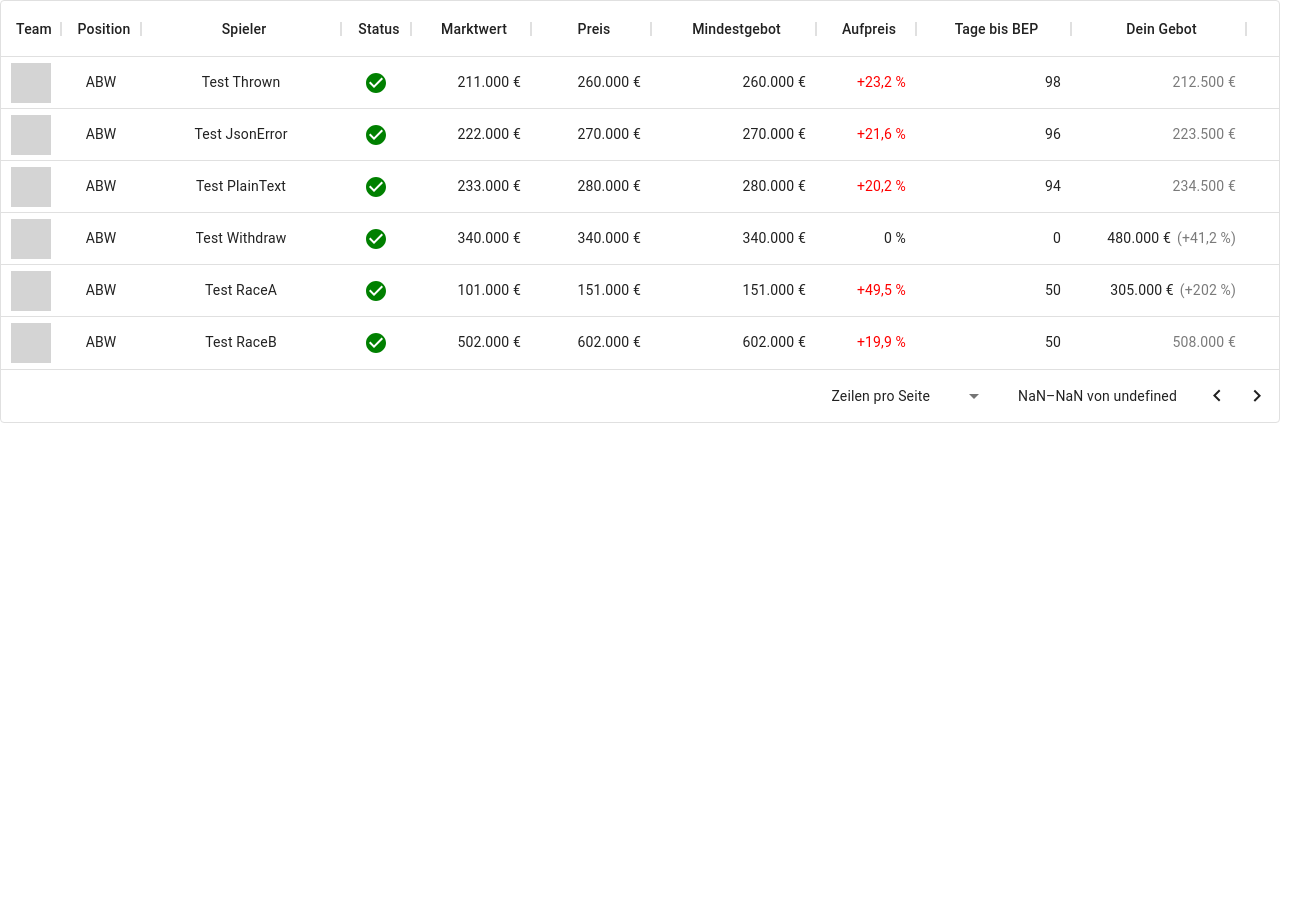
MarketTable bidding › shows the server's German error verbatim and keeps the draft on a non-OK JSON response
The width and height of the screenshot is (1292, 900).
Check: the text "Test Thrown" is shown, box [202,72,280,92]
Click the text "223.500 €" at x=1204, y=134, box [1172,126,1236,142]
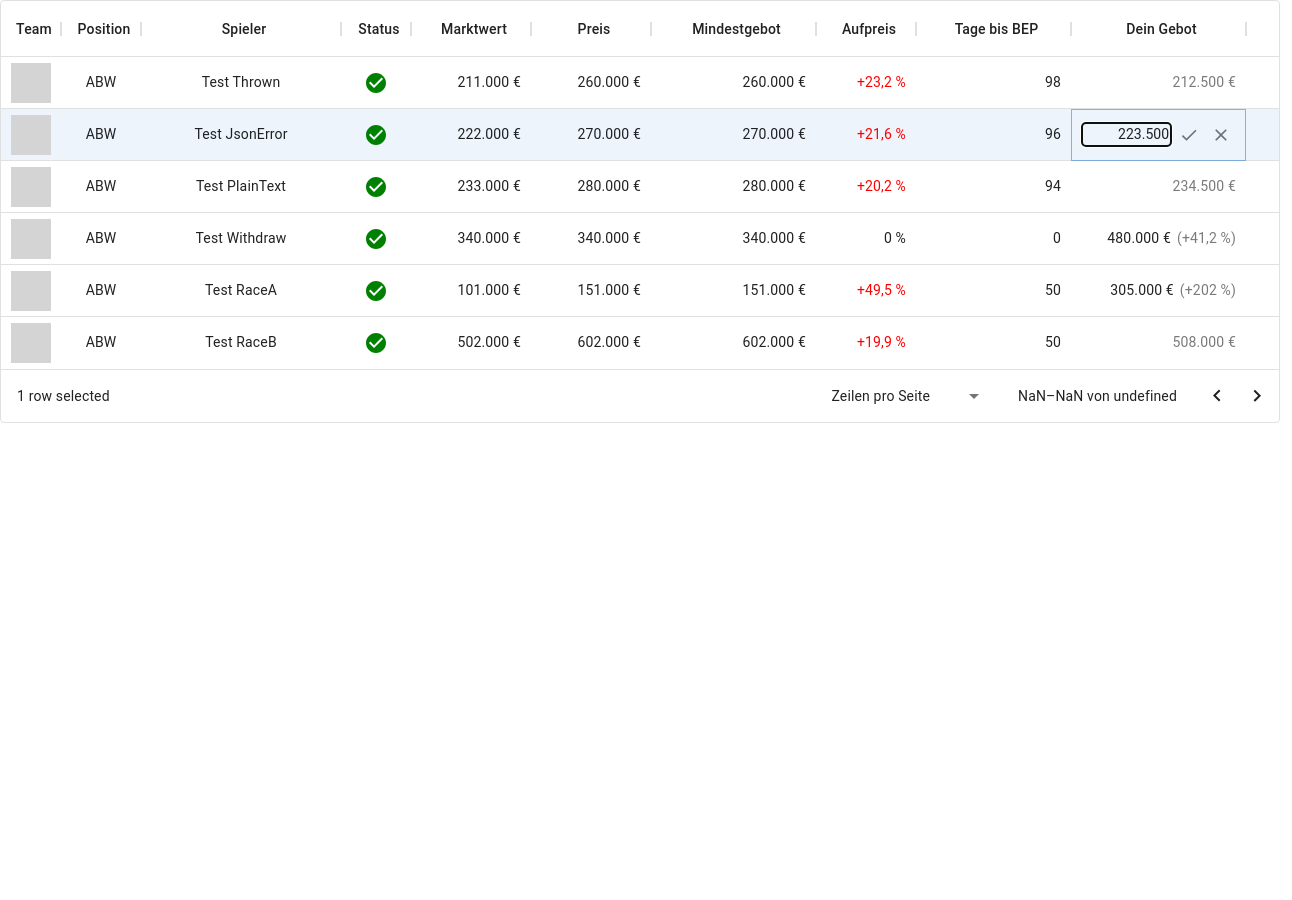
Replace the text in the field with "160000" at x=1126, y=134, box [1081,122,1172,146]
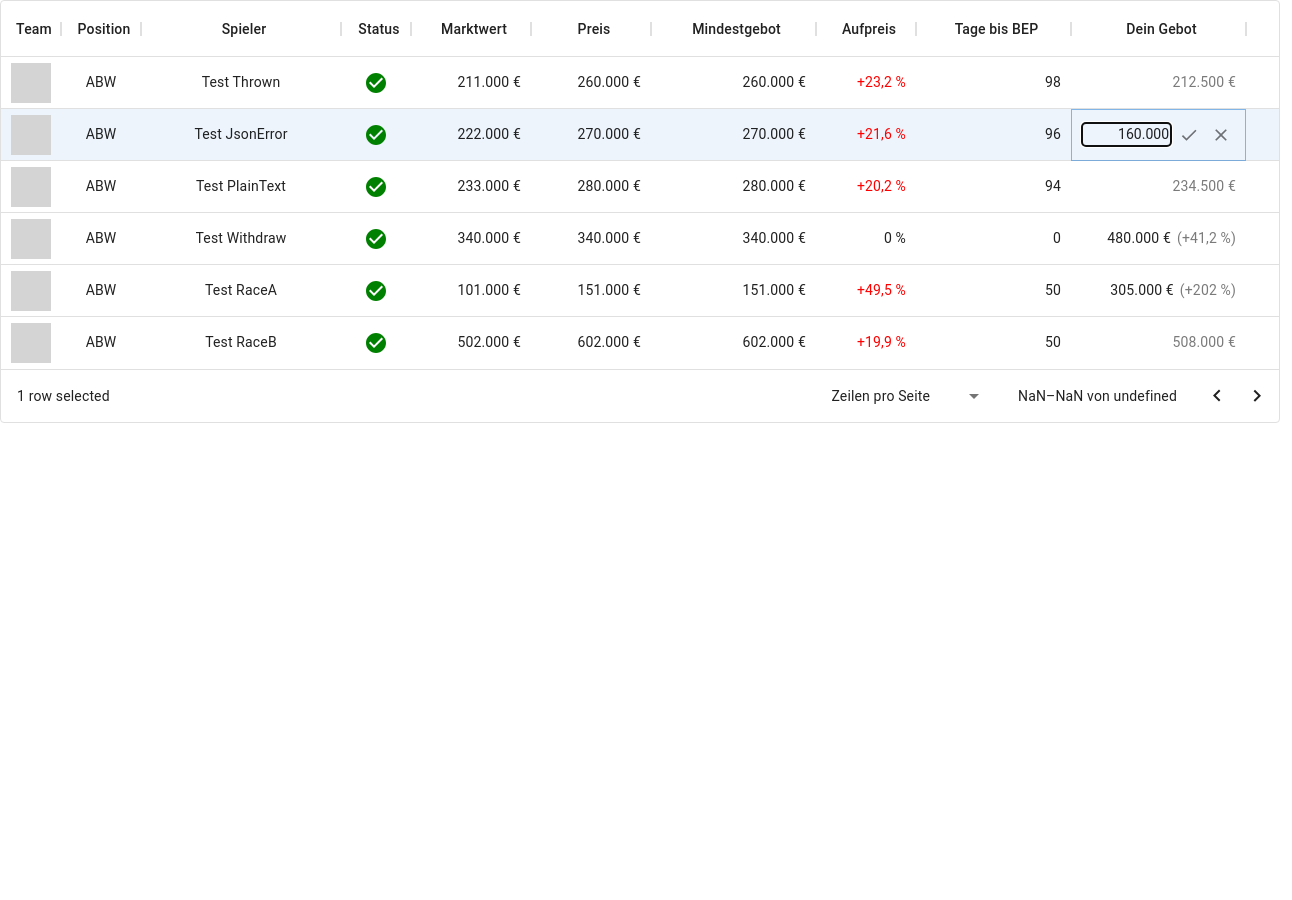
Click the button named "Gebot abgeben" at x=1189, y=134, box [1174,120,1204,150]
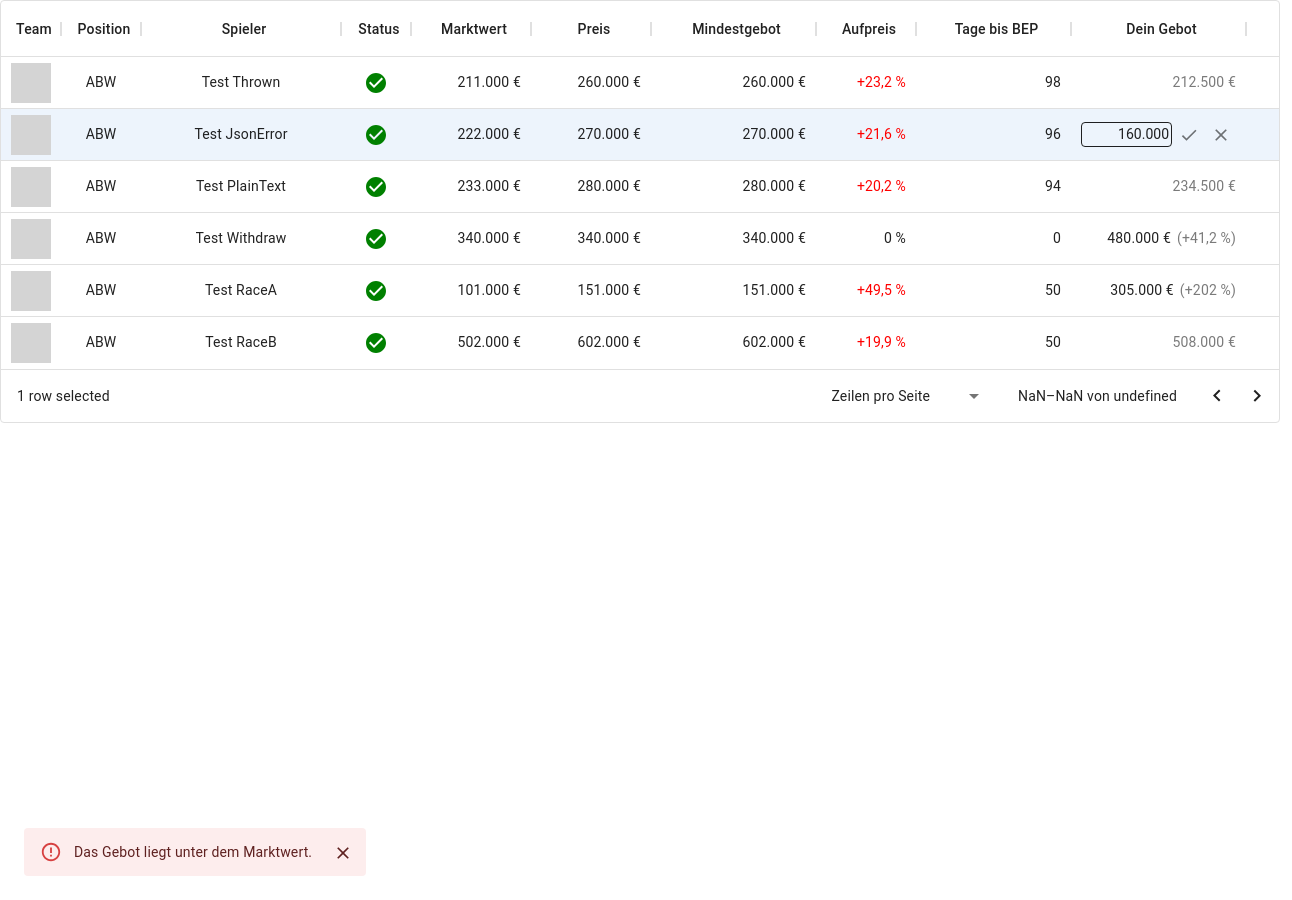
Check: the field holds "160.000", box [1081,122,1172,146]
Check: the text "Das Gebot liegt unter dem Marktwert." is shown, box [74,844,312,860]
